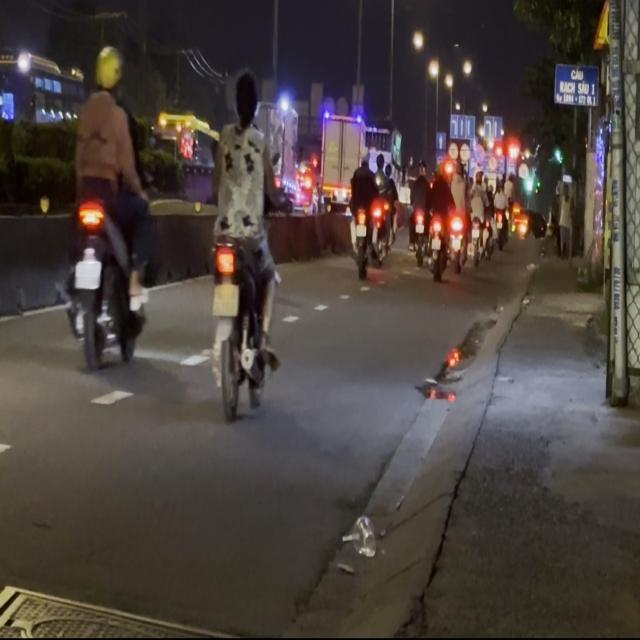helmet: (92, 44, 122, 94)
licenseplate: (63, 43, 154, 372), (205, 67, 281, 419)
motorcyclist: (231, 69, 258, 125)
nohelmet: (212, 284, 238, 315), (74, 259, 100, 288)
